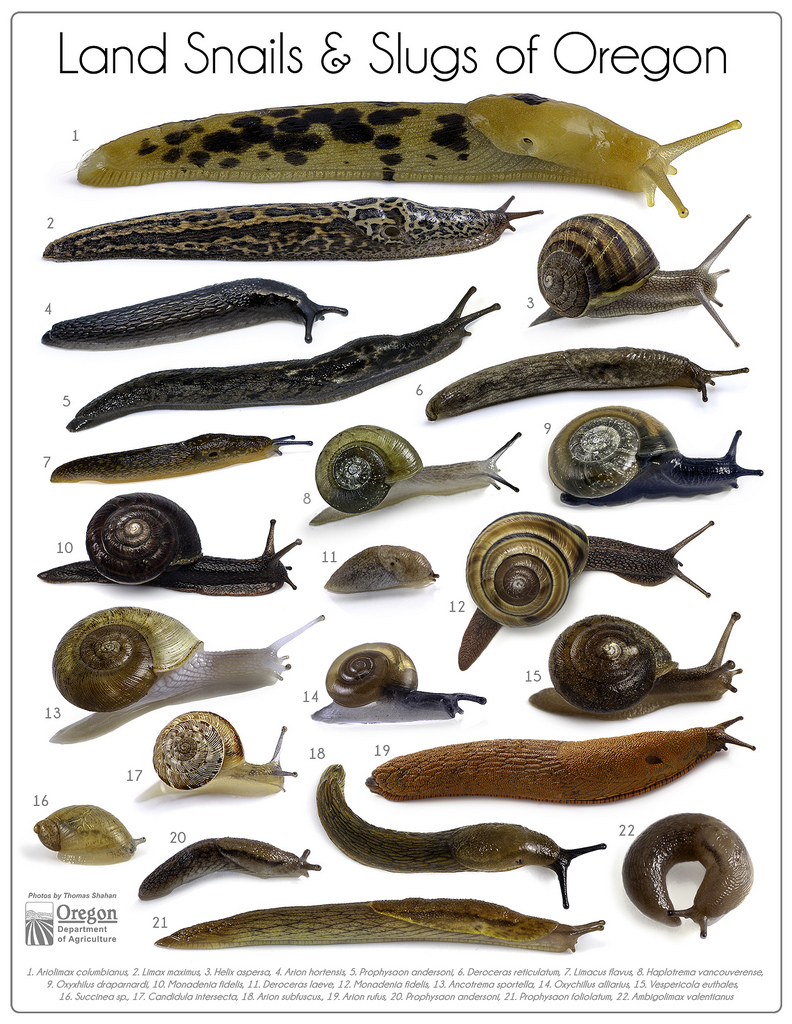slug: (80, 96, 730, 187), (68, 305, 500, 438), (366, 725, 743, 797), (54, 197, 512, 255), (161, 896, 598, 950), (424, 348, 734, 418), (46, 278, 335, 343), (622, 815, 756, 932), (317, 828, 579, 871), (139, 849, 325, 895), (61, 434, 286, 469), (330, 541, 434, 591)
snail: (56, 493, 298, 599), (541, 208, 744, 334), (46, 608, 302, 705), (475, 510, 717, 609), (548, 403, 751, 501), (550, 617, 743, 712), (314, 425, 511, 499), (151, 714, 299, 804), (320, 642, 461, 725), (41, 803, 140, 870)
